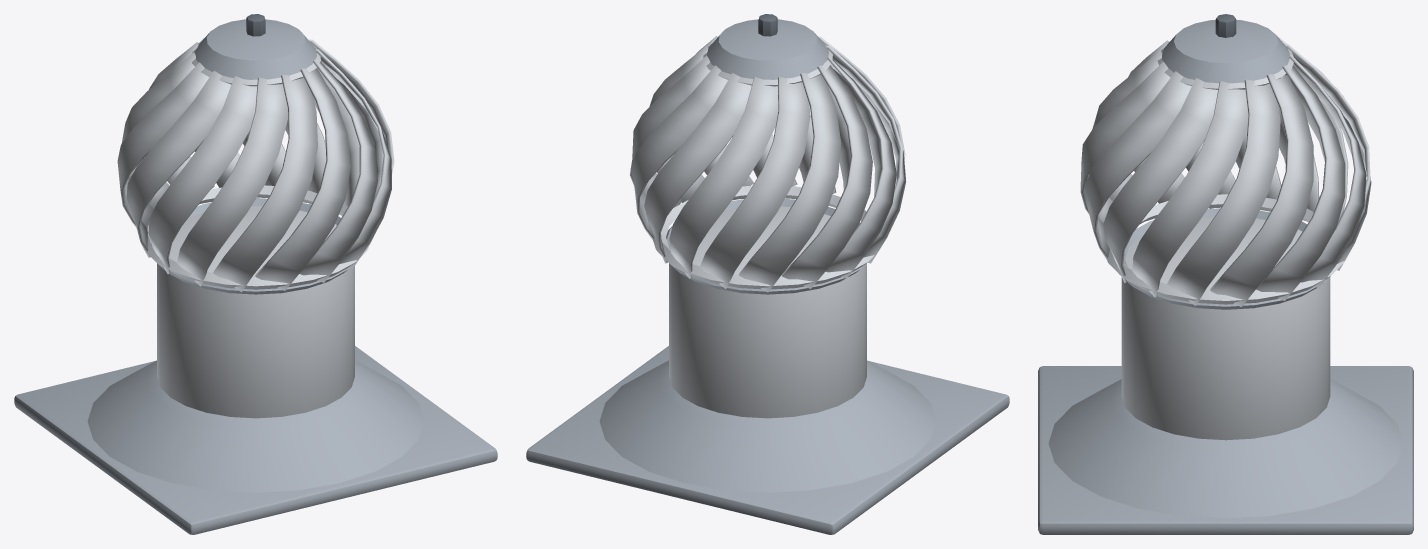
The model's file is exaustor_telhado.glb.
3 renders of one model, left to right at view 1: azimuth 30°, elevation 25°; view 2: azimuth 150°, elevation 25°; view 3: azimuth 270°, elevation 25°, orthographic. The views are drawn at different scales.
Parts seen in each view (by area): view 1: exaustor_telhado, rotor; view 2: exaustor_telhado, rotor; view 3: exaustor_telhado, rotor.
Part boxes in pixels (x1,y1,x2,y2): exaustor_telhado: [14, 198, 497, 534]; rotor: [117, 14, 394, 291]; exaustor_telhado: [526, 199, 1009, 534]; rotor: [630, 14, 906, 292]; exaustor_telhado: [1038, 208, 1413, 534]; rotor: [1080, 14, 1371, 307].
Bounding box in the file's own units: 0.72 × 0.93 × 0.72.
1 material, 1 textured.
